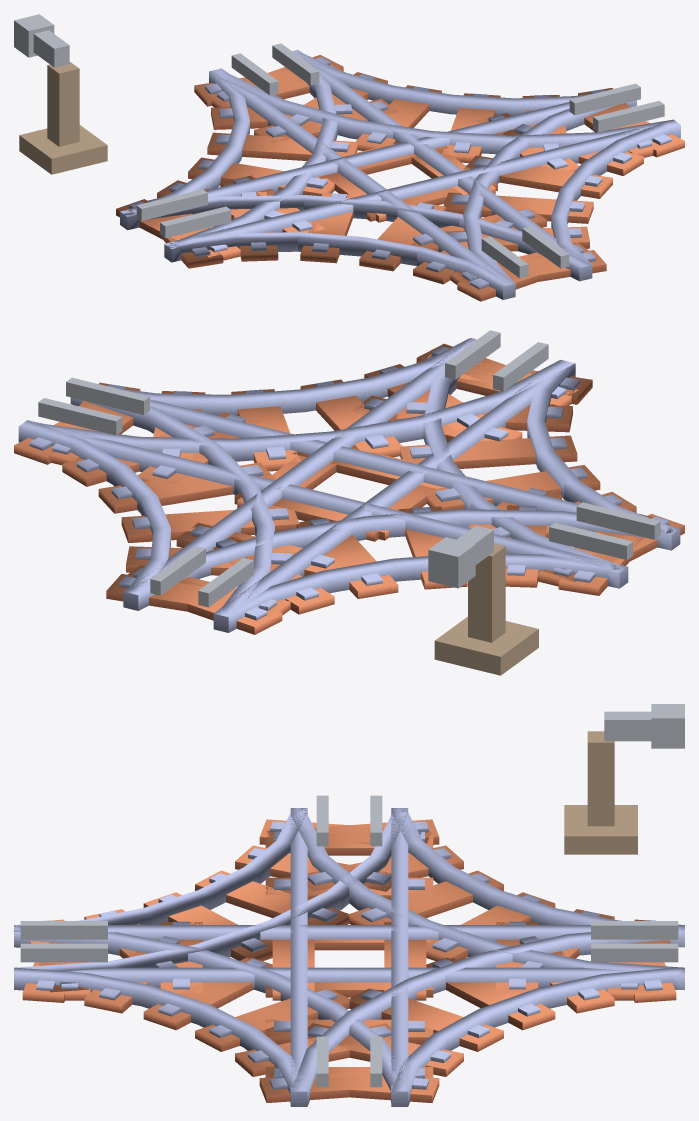
Rendered from switch-slip.glb.
The picture shows the model from 3 angles, top to bottom: view 1: azimuth 30°, elevation 25°; view 2: azimuth 150°, elevation 25°; view 3: azimuth 270°, elevation 25°; orthographic projection. The views are drawn at different scales.
Visible parts, largest first — view 1: switch_cross, switch_arc_sw, switch_arc_se, switch_arc_ne, switch_arc_nw, switch_lever_base, switch_lever_arm, switch_blades_west_blade_-1, switch_blades_east, switch_blades_east_blade_-1, switch_blades_west, switch_blades_blade_-1 (+3 smaller); view 2: switch_cross, switch_arc_ne, switch_arc_nw, switch_arc_se, switch_arc_sw, switch_lever_base, switch_lever_arm, switch_blades_west, switch_blades_east, switch_blades_east_blade_-1, switch_blades_west_blade_-1, switch_blades_blade_-1 (+3 smaller); view 3: switch_cross, switch_arc_ne, switch_arc_se, switch_arc_nw, switch_arc_sw, switch_lever_base, switch_lever_arm, switch_blades, switch_blades_north_blade_-1, switch_blades_blade_-1, switch_blades_north, switch_blades_east (+3 smaller).
Boxes of the visible parts, x1,y1,x2,y2 form: switch_cross: (120,51,680,299); switch_arc_sw: (120,192,591,301); switch_arc_se: (443,100,684,284); switch_arc_ne: (207,50,678,162); switch_arc_nw: (116,50,360,256); switch_lever_base: (19,62,107,174); switch_lever_arm: (14,14,69,67); switch_blades_west_blade_-1: (136,189,207,220); switch_blades_east: (569,83,640,115); switch_blades_east_blade_-1: (593,101,664,132); switch_blades_west: (160,206,231,238); switch_blades_blade_-1: (481,236,528,278); switch_cross: (28,338,680,632); switch_arc_ne: (14,397,299,617); switch_arc_nw: (124,505,678,634); switch_arc_se: (19,338,576,471); switch_arc_sw: (396,338,684,581); switch_lever_base: (434,543,538,675); switch_lever_arm: (428,525,493,588); switch_blades_west: (576,502,660,539); switch_blades_east: (38,398,122,435); switch_blades_east_blade_-1: (66,377,149,414); switch_blades_west_blade_-1: (549,522,632,559); switch_blades_blade_-1: (493,342,548,391); switch_cross: (14,808,684,1106); switch_arc_ne: (268,925,684,1105); switch_arc_se: (14,925,429,1102); switch_arc_nw: (267,808,684,992); switch_arc_sw: (14,808,431,992); switch_lever_base: (564,731,637,854); switch_lever_arm: (604,704,684,748); switch_blades: (20,943,107,962); switch_blades_north_blade_-1: (591,943,678,962); switch_blades_blade_-1: (20,921,107,939); switch_blades_north: (591,921,678,939); switch_blades_east: (370,1036,382,1087).
Size of the model in its own units: 4 by 0.84 by 4.
4 materials, 2 textured.
